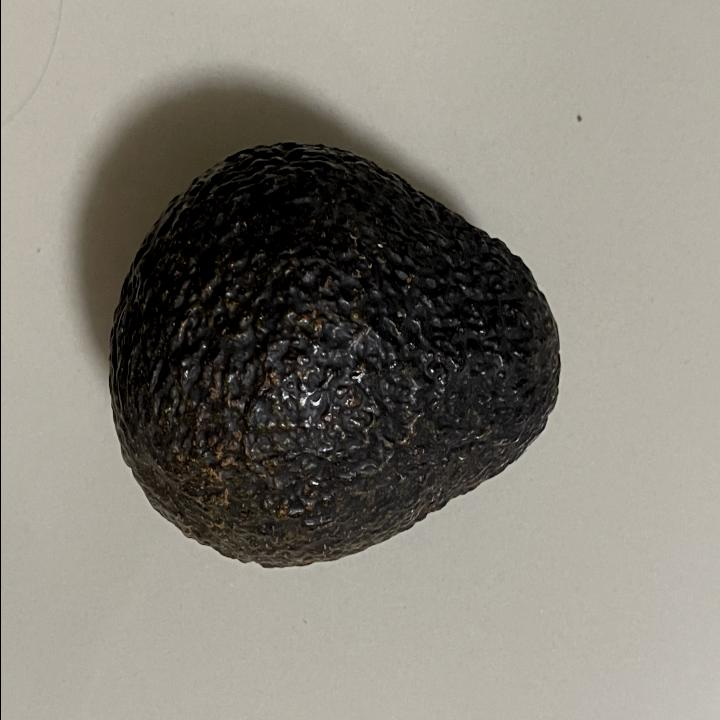Level1: (96, 129, 568, 587)
